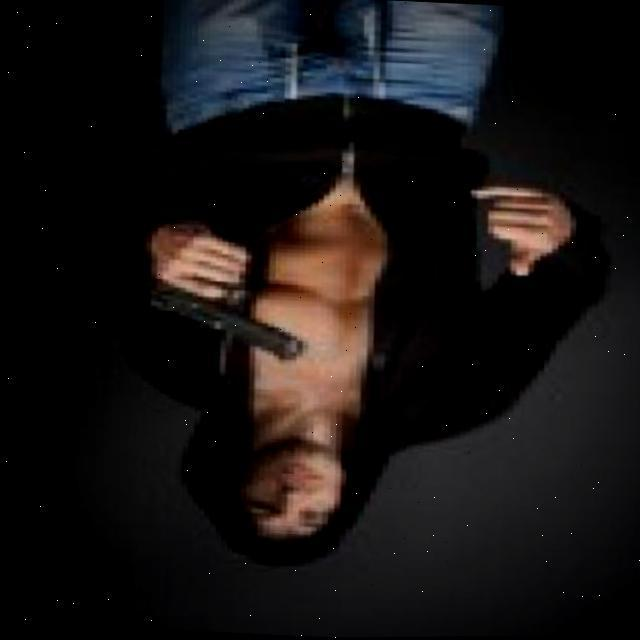gun: (138, 253, 312, 362)
